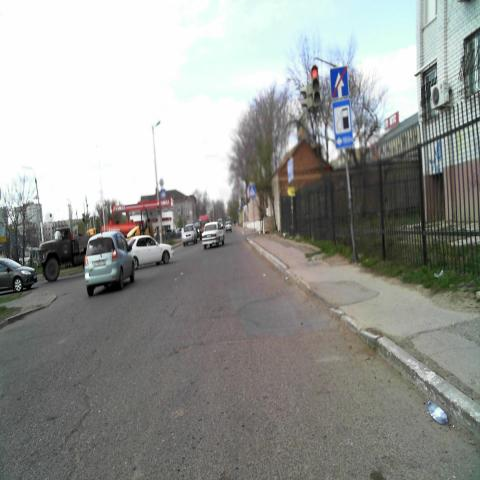5_6: (330, 67, 348, 97)
